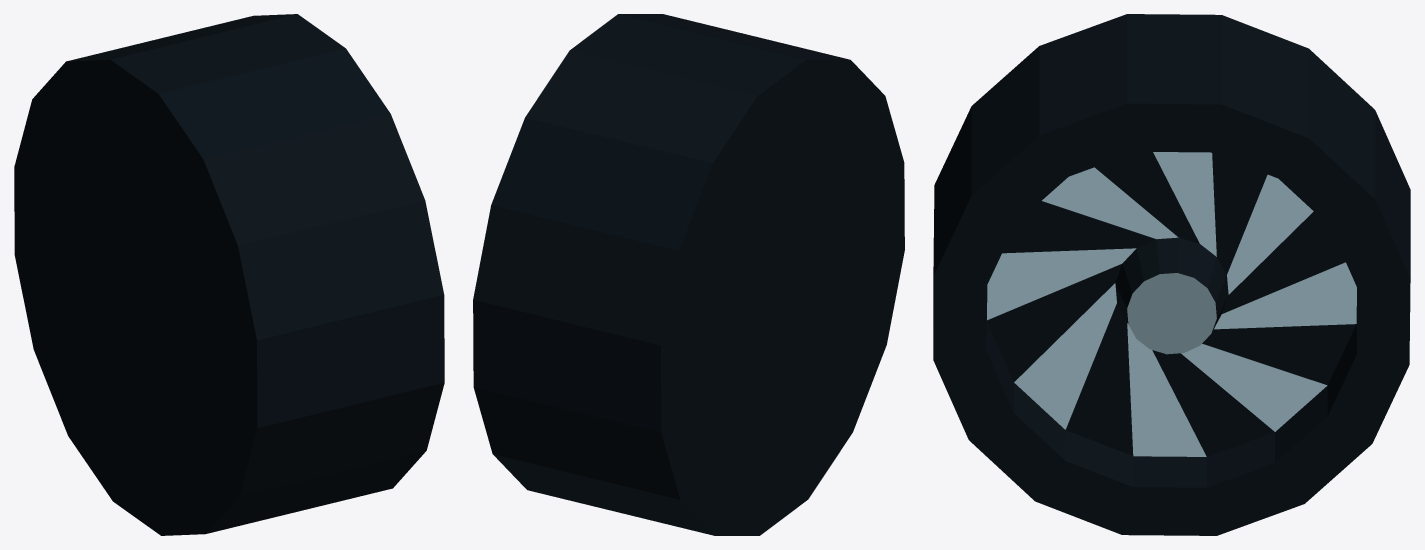
Rendered from FantaCar6600.export..WHEELblendR.glb.
3 views of the same model, side by side, from view 1: azimuth 30°, elevation 25°; view 2: azimuth 150°, elevation 25°; view 3: azimuth 270°, elevation 25° (orthographic). The views are drawn at different scales.
Visible parts, largest first — view 1: Car; view 2: Car; view 3: Car.
Boxes of the visible parts, x1=… form: Car: x1=14, y1=14, x2=444, y2=535; Car: x1=473, y1=14, x2=904, y2=535; Car: x1=933, y1=14, x2=1410, y2=535.
Bounding box in the file's own units: 0.7081 × 1.59 × 1.59.
1 material, 1 textured.
